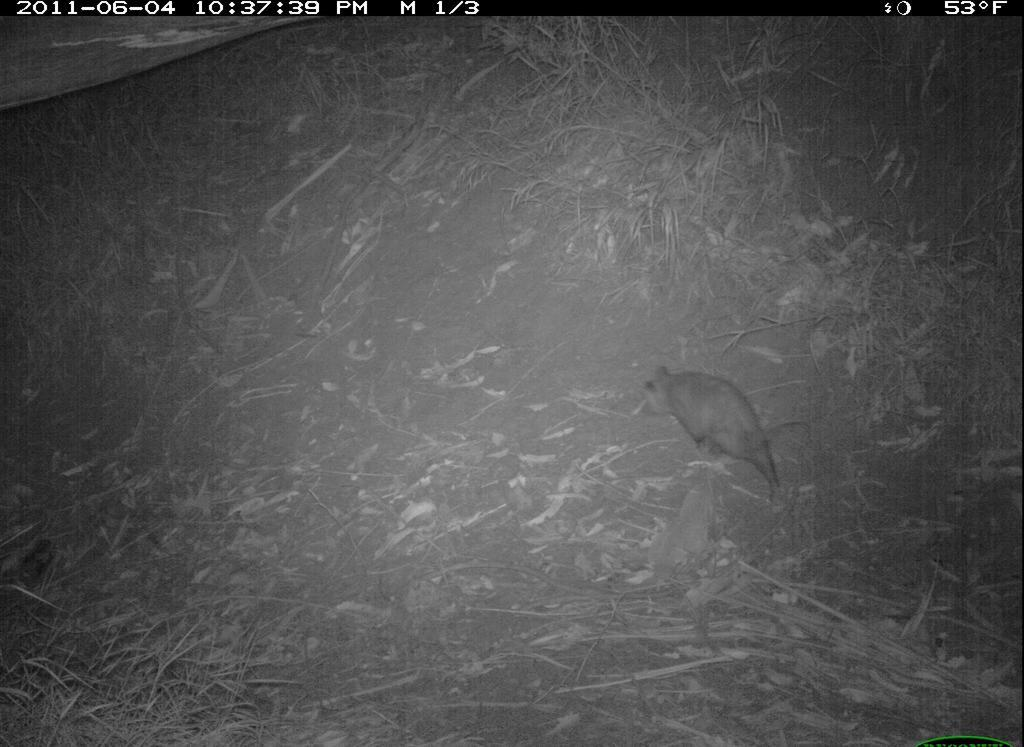opossum: (637, 360, 799, 513)
